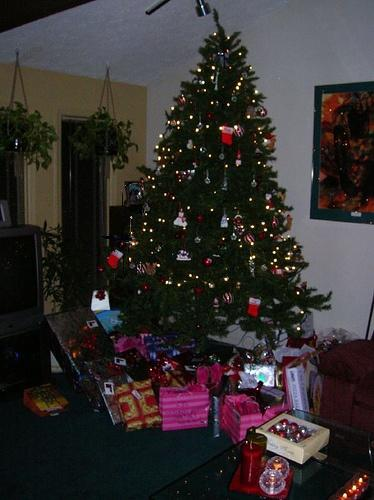tampered: (99, 184, 144, 281)
